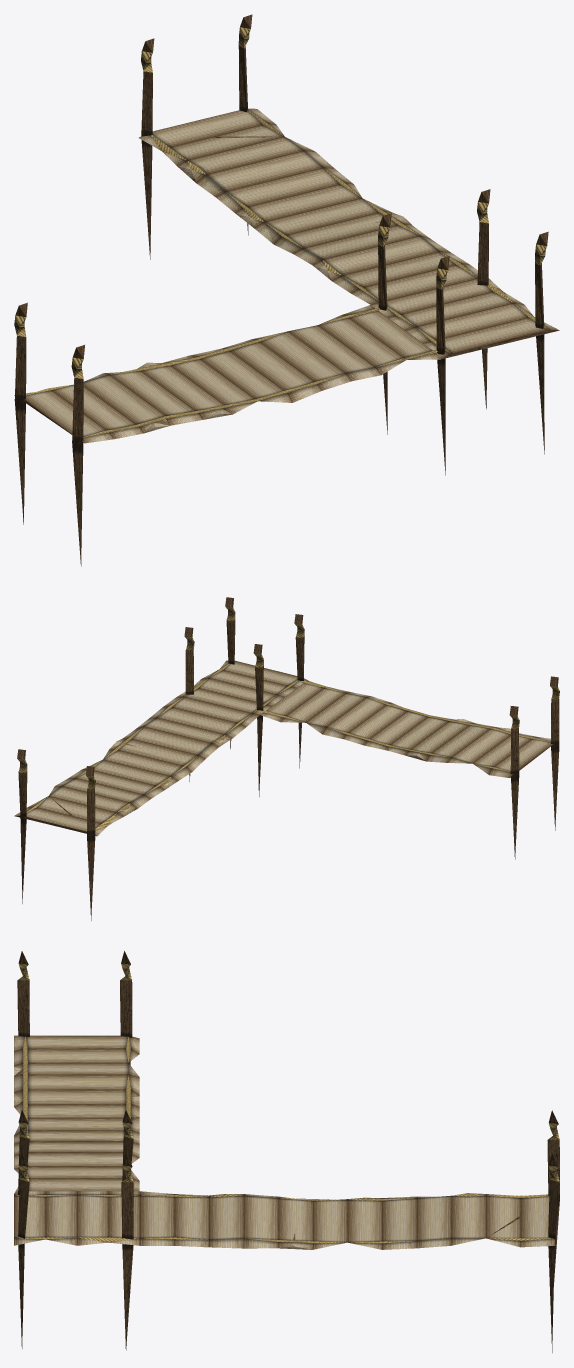
Rendered from p2_platform1_L_LOD1.fbx.
The picture shows the model from 3 angles, top to bottom: view 1: azimuth 30°, elevation 25°; view 2: azimuth 150°, elevation 25°; view 3: azimuth 270°, elevation 25°; orthographic projection. The views are drawn at different scales.
Visible parts, largest first — view 1: polymsh1; view 2: polymsh1; view 3: polymsh1.
Boxes of the visible parts, left/top/right/bottom form: polymsh1: left=14, top=14, right=559, bottom=566; polymsh1: left=14, top=597, right=559, bottom=920; polymsh1: left=14, top=951, right=559, bottom=1352.
Bounding box in the file's own units: 405 × 179 × 445.
